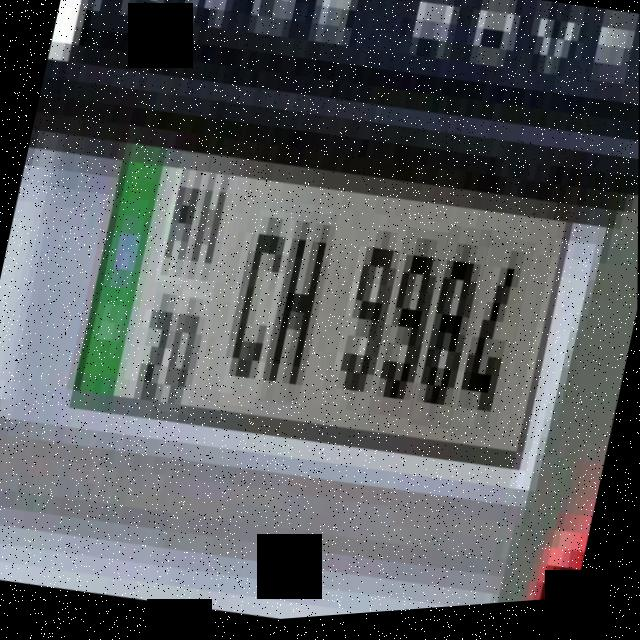0: (157, 291, 212, 419)
4: (448, 242, 536, 450)
8: (407, 229, 492, 439)
9: (367, 231, 450, 427), (326, 218, 407, 415)
C: (219, 211, 296, 415)
H: (260, 213, 338, 412), (181, 154, 243, 307)
M: (155, 154, 211, 289)
